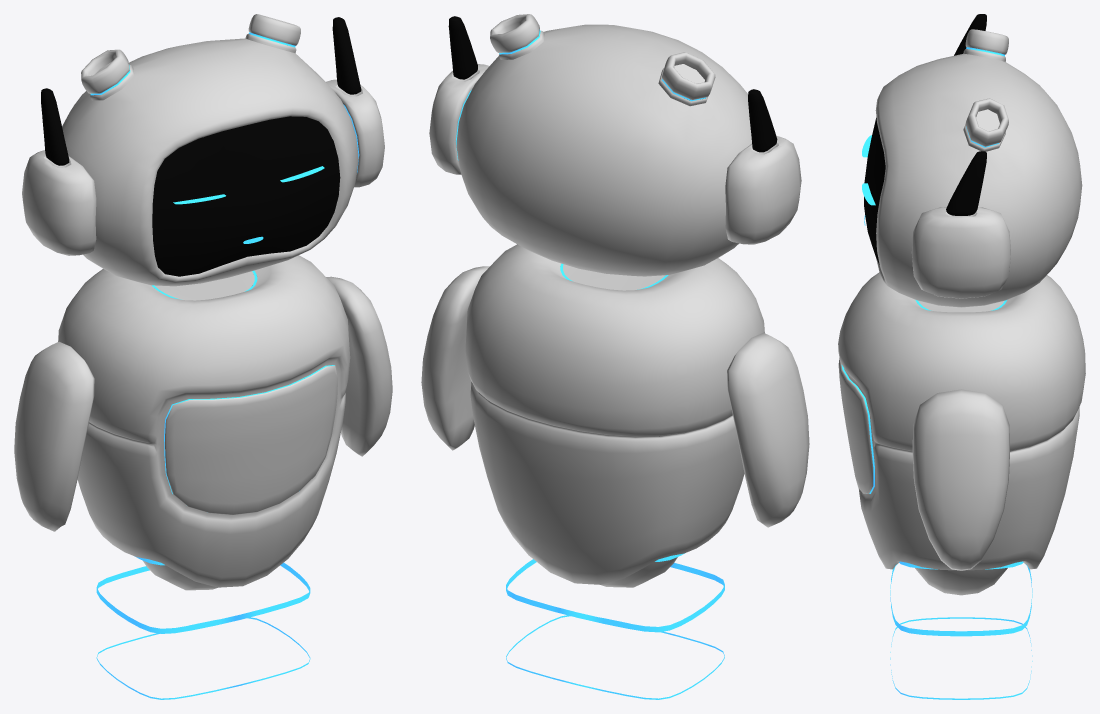
The model's file is robort.glb.
3 views of the same model, side by side, from view 1: azimuth 30°, elevation 25°; view 2: azimuth 150°, elevation 25°; view 3: azimuth 270°, elevation 25° (orthographic). The views are drawn at different scales.
Parts seen in each view (by area): view 1: Robot, hANDS.002, hANDS, Ears, Wave.002, Wave.003; view 2: Robot, hANDS.002, hANDS, Ears, Wave.002, Wave.003; view 3: Robot, hANDS, Ears, Wave.002, Wave.003.
Boxes of the visible parts, box(x1,y1,x2,y2) form: Robot: box(22, 14, 384, 590); hANDS.002: box(14, 341, 94, 531); hANDS: box(326, 276, 392, 456); Ears: box(41, 17, 361, 165); Wave.002: box(96, 562, 310, 633); Wave.003: box(96, 617, 310, 699); Robot: box(429, 14, 801, 587); hANDS.002: box(727, 332, 809, 527); hANDS: box(421, 266, 489, 450); Ears: box(448, 16, 777, 152); Wave.002: box(506, 559, 724, 632); Wave.003: box(506, 615, 724, 699); Robot: box(838, 29, 1085, 595); hANDS: box(912, 389, 1010, 570); Ears: box(946, 14, 986, 215); Wave.002: box(890, 564, 1032, 636); Wave.003: box(890, 617, 1032, 699).
Bounding box in the file's own units: 0.509 × 0.8395 × 0.3174.
